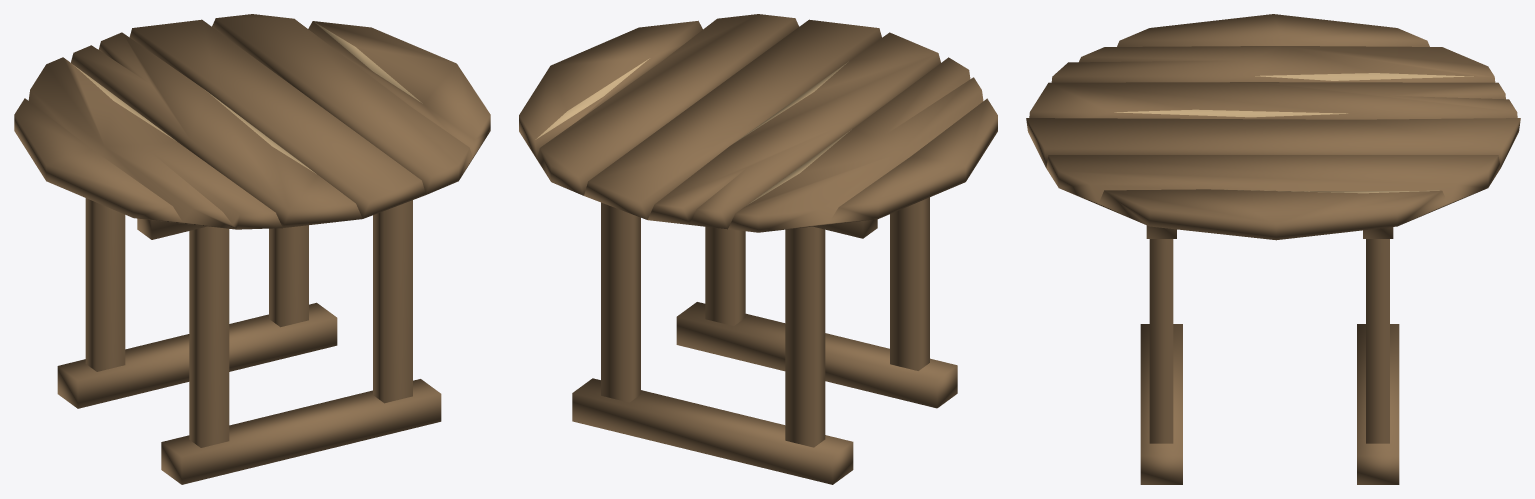
Rendered from rpgpp_ag_table_02.fbx.
3 renders of one model, left to right at view 1: azimuth 30°, elevation 25°; view 2: azimuth 150°, elevation 25°; view 3: azimuth 270°, elevation 25°, orthographic. The views are drawn at different scales.
Visible parts, largest first — view 1: rpgpp_ag_table_02; view 2: rpgpp_ag_table_02; view 3: rpgpp_ag_table_02.
Part boxes in pixels (x1,y1,x2,y2): rpgpp_ag_table_02: (14,14,490,484); rpgpp_ag_table_02: (519,14,997,484); rpgpp_ag_table_02: (1026,14,1520,484).
Size of the model in its own units: 1.19 by 0.8028 by 1.19.
